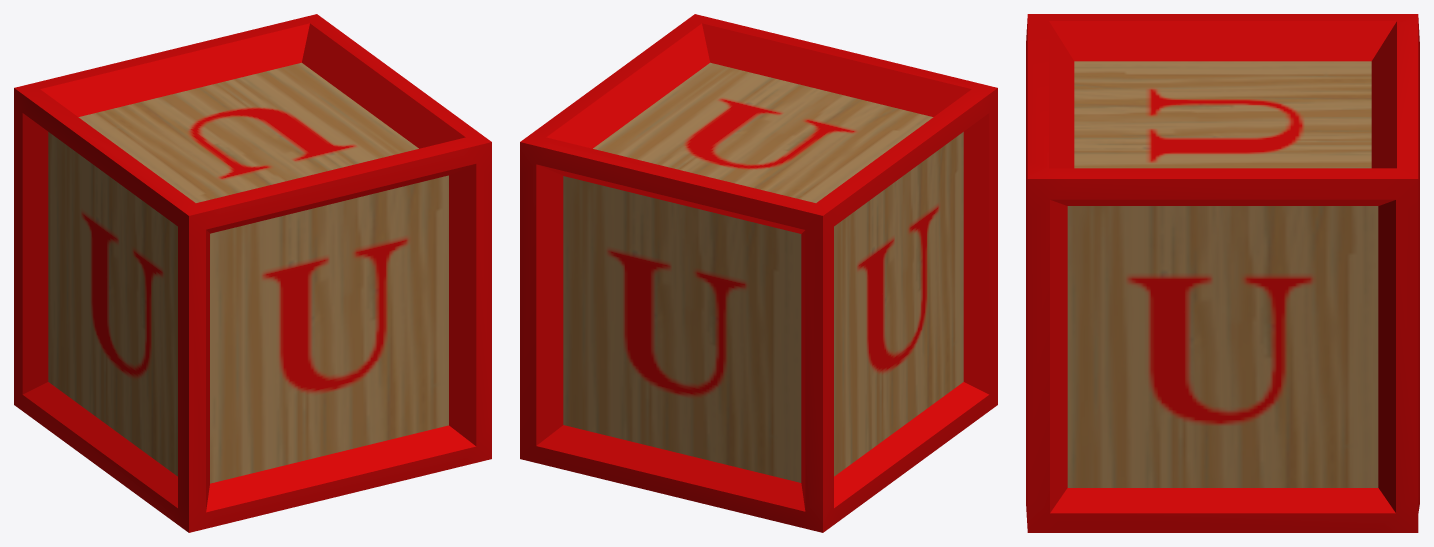
The model's file is Letter_U.fbx.
3 renders of one model, left to right at view 1: azimuth 30°, elevation 25°; view 2: azimuth 150°, elevation 25°; view 3: azimuth 270°, elevation 25°, orthographic. The views are drawn at different scales.
Visible parts, largest first — view 1: LetterBlock_U; view 2: LetterBlock_U; view 3: LetterBlock_U.
Part boxes in pixels (left/top/right/bottom): LetterBlock_U: left=14, top=14, right=491, bottom=532; LetterBlock_U: left=520, top=14, right=997, bottom=532; LetterBlock_U: left=1026, top=14, right=1419, bottom=532.
Bounding box in the file's own units: 0.1209 × 0.1213 × 0.121.
Materials: 1 (1 with a texture image).
